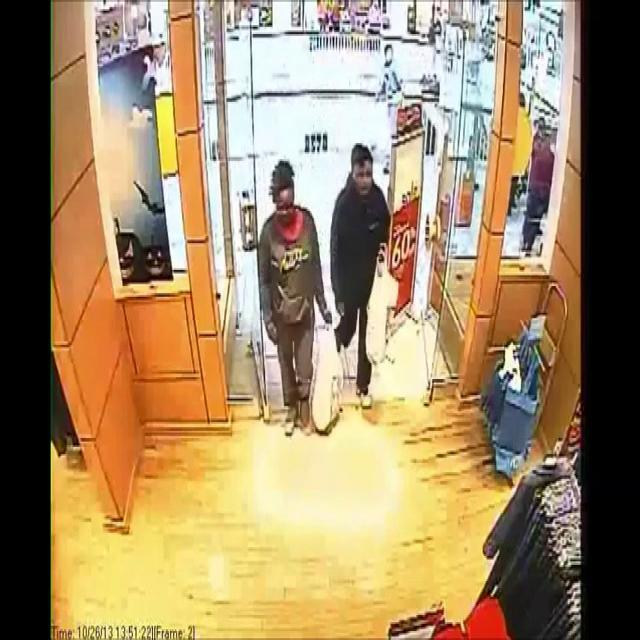normal: (249, 143, 333, 441), (334, 102, 399, 422)
